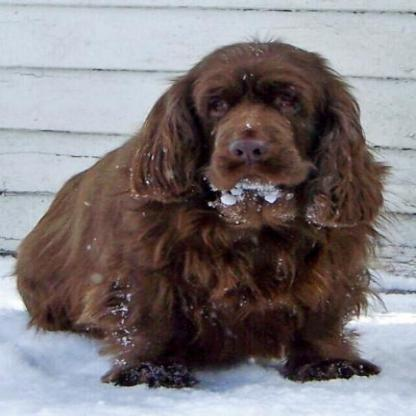Sussex_spaniel: (10, 37, 396, 388)
